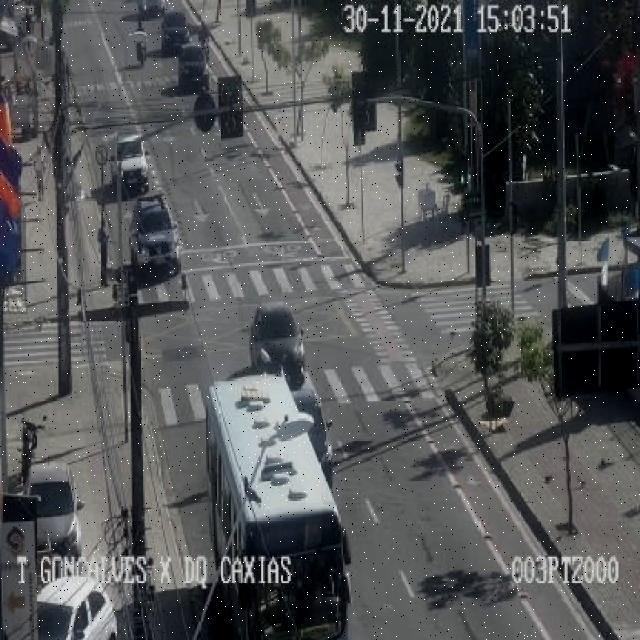Bus: (196, 370, 357, 640)
Car: (14, 461, 82, 558), (36, 576, 118, 638), (127, 195, 179, 284), (250, 302, 306, 381), (107, 129, 150, 196), (177, 42, 208, 88), (161, 11, 191, 54), (135, 0, 165, 19)
